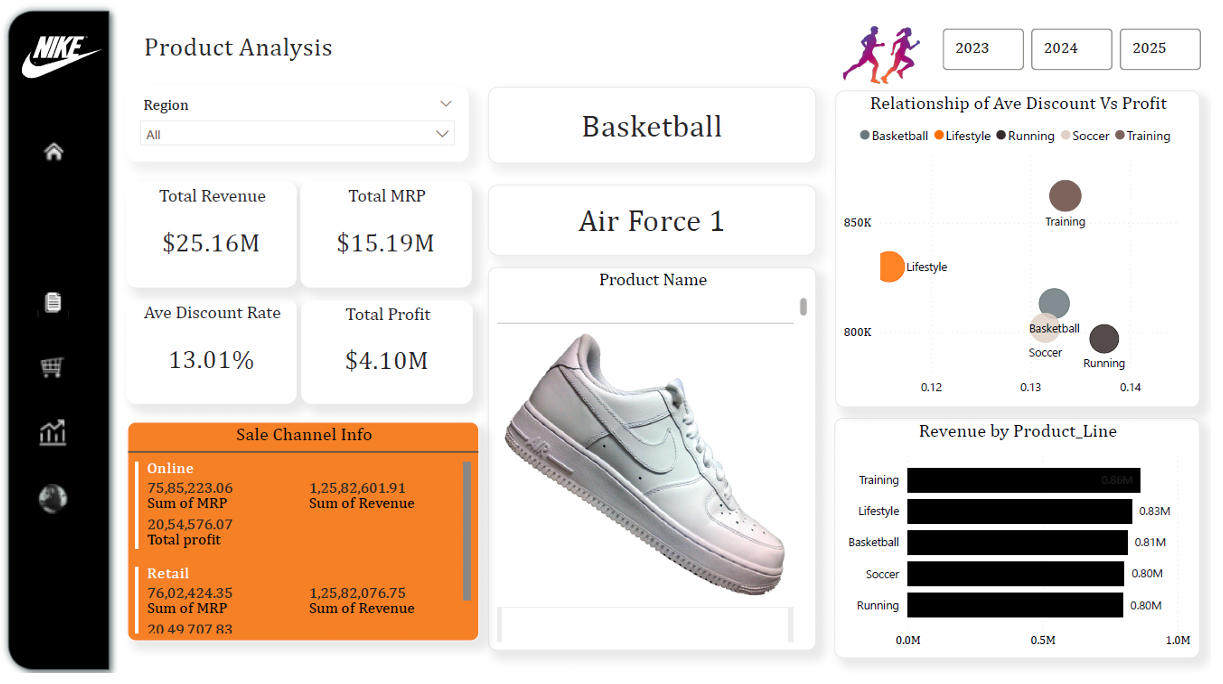

The dashboard page shown, as its layout file describes it:
{"tool":"powerbi","page":{"name":"Product Analysis","canvas":[1280,720],"ordinal":2},"visuals":[{"type":"textbox","box":[124,12,254,82],"z":0},{"type":"slicer","fields":{"Values":["nike_sales_cleaned_safe (5).Region"]},"box":[133.1,84.5,175.6,85.6],"z":0,"group":"g1"},{"type":"slicer","fields":{"Values":["nike_sales_cleaned_safe (5).Product_Name"]},"box":[321.1,88.9,175.6,85.6],"z":0},{"type":"card","title":"Ave Discount Rate","fields":{"Values":["nike_sales_cleaned_safe (5).Ave Discount %"]},"box":[132.6,315,178.6,112.7],"z":0,"group":"g2"},{"type":"shape","box":[0,0,123.7,720.5],"z":1000},{"type":"tableEx","title":"Product Name","fields":{"Values":["nike_sales_cleaned_safe (5).Image URL"]},"box":[512.2,281.4,345.7,408.9],"z":1000,"group":"g1"},{"type":"advancedSlicerVisual","fields":{"Values":["nike_sales_cleaned_safe (5).Order_Date.Variation.Date Hierarchy.Year"]},"box":[986,23.3,282.6,53.5],"z":2000},{"type":"group","id":"g1","title":"Group 2","box":[132.6,84.5,1128.4,614.3],"z":3000},{"type":"card","fields":{"Values":["Min(nike_sales_cleaned_safe (5).Product_Name)"]},"box":[512.2,193.9,345.7,75.5],"z":3000,"group":"g1"},{"type":"card","fields":{"Values":["Min(nike_sales_cleaned_safe (5).Product_Line)"]},"box":[512.2,89.5,345.7,81.5],"z":4000,"group":"g1"},{"type":"actionButton","box":[42,144.1,39.6,30],"z":4000},{"type":"card","title":"Total Revenue","fields":{"Values":["Sum(nike_sales_cleaned_safe (5).Revenue)"]},"box":[132.6,190.3,178.6,112.7],"z":5000,"group":"g2"},{"type":"actionButton","box":[36,297.7,39.5,43],"z":5000},{"type":"barChart","title":"Revenue by Product_Line","fields":{"Category":["nike_sales_cleaned_safe (5).Product_Line"],"Y":["Sum(nike_sales_cleaned_safe (5).Profit)"]},"box":[877,442.1,383.5,256.7],"z":5000,"group":"g1"},{"type":"card","title":"Total MRP","fields":{"Values":["Sum(nike_sales_cleaned_safe (5).MRP)"]},"box":[315.6,190.3,179.7,112.7],"z":6000,"group":"g2"},{"type":"actionButton","box":[37.2,369.8,39.5,38.4],"z":6000},{"type":"multiRowCard","title":"Sale Channel Info","fields":{"Values":["nike_sales_cleaned_safe (5).Sales_Channel","Sum(nike_sales_cleaned_safe (5).MRP)","Sum(nike_sales_cleaned_safe (5).Revenue)","nike_sales_cleaned_safe (5).Total profit"]},"box":[133.1,446.4,370.9,233.8],"z":6000,"group":"g1"},{"type":"scatterChart","title":"Relationship of Ave Discount Vs Profit","fields":{"X":["nike_sales_cleaned_safe (5).Ave Discount %"],"Y":["Sum(nike_sales_cleaned_safe (5).Profit)"],"Series":["nike_sales_cleaned_safe (5).Product_Line"],"Size":["Sum(nike_sales_cleaned_safe (5).Units_Sold)"]},"box":[877.3,93.6,383.7,338.4],"z":7000,"group":"g1"},{"type":"card","title":"Total Profit","fields":{"Values":["Sum(nike_sales_cleaned_safe (5).Profit)"]},"box":[316.7,317.4,179.7,110.3],"z":7000,"group":"g2"},{"type":"actionButton","box":[36,437.2,39.5,40.7],"z":7000},{"type":"actionButton","box":[36,510.5,39.5,38.4],"z":8000},{"type":"image","box":[876.7,23.3,100,66.3],"z":9000},{"type":"group","id":"g2","title":"Group 1","box":[132.6,190.3,363.8,237.4],"z":9000,"group":"g1"},{"type":"image","box":[13.2,22.8,97.3,69.6],"z":10000}]}

Visuals, with their boxes on the page's 1280x720 design canvas (x1, y1, x2, y2). These are canvas units, not pixel positions in the 1223x684 screenshot, which may show the page scaled, cropped or inside an application window:
textbox: [124,12,378,94]
slicer - nike_sales_cleaned_safe (5).Region: [133,84,309,170]
slicer - nike_sales_cleaned_safe (5).Product_Name: [321,89,497,174]
"Ave Discount Rate" card: [133,315,311,428]
shape: [0,0,124,720]
"Product Name" tableEx: [512,281,858,690]
advancedSlicerVisual - nike_sales_cleaned_safe (5).Order_Date.Variation.Date Hierarchy.Year: [986,23,1269,77]
"Group 2" group: [133,84,1261,699]
card - Min(nike_sales_cleaned_safe (5).Product_Name): [512,194,858,269]
card - Min(nike_sales_cleaned_safe (5).Product_Line): [512,90,858,171]
actionButton: [42,144,82,174]
"Total Revenue" card: [133,190,311,303]
actionButton: [36,298,76,341]
"Revenue by Product_Line" barChart: [877,442,1260,699]
"Total MRP" card: [316,190,495,303]
actionButton: [37,370,77,408]
"Sale Channel Info" multiRowCard: [133,446,504,680]
"Relationship of Ave Discount Vs Profit" scatterChart: [877,94,1261,432]
"Total Profit" card: [317,317,496,428]
actionButton: [36,437,76,478]
actionButton: [36,510,76,549]
image: [877,23,977,90]
"Group 1" group: [133,190,496,428]
image: [13,23,110,92]
